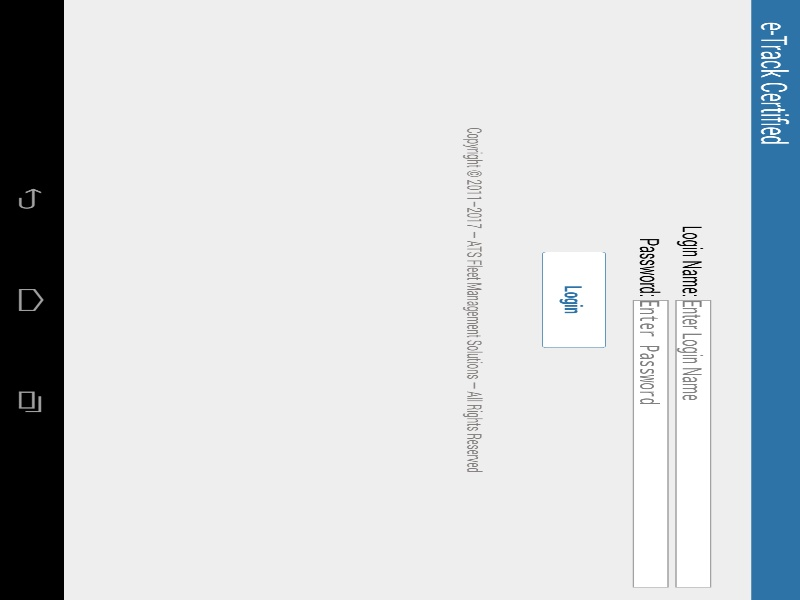Button: (537, 90, 742, 120)
